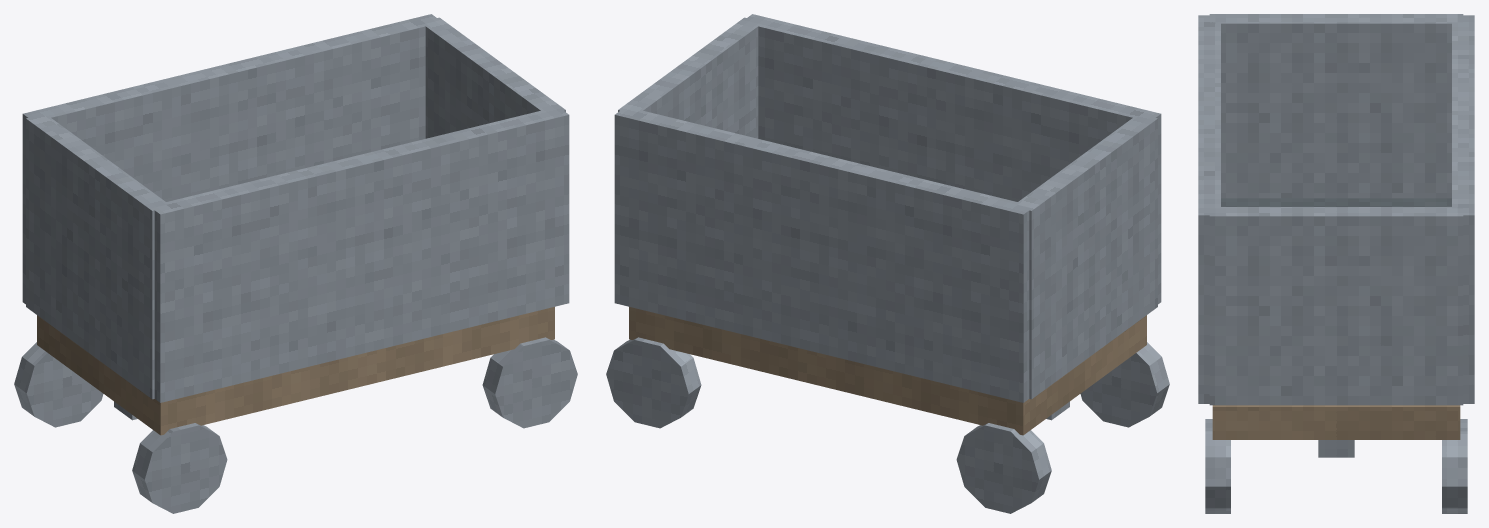
Rendered from level_blockout_refined_mine_open_ore_cart.glb.
The picture shows the model from 3 angles, left to right: view 1: azimuth 30°, elevation 25°; view 2: azimuth 150°, elevation 25°; view 3: azimuth 270°, elevation 25°; orthographic projection.
Visible parts, largest first — view 1: level_blockout_refined_mine_open_ore_cart; view 2: level_blockout_refined_mine_open_ore_cart; view 3: level_blockout_refined_mine_open_ore_cart.
Boxes of the visible parts, left/top/right/bottom form: level_blockout_refined_mine_open_ore_cart: left=14, top=14, right=577, bottom=513; level_blockout_refined_mine_open_ore_cart: left=606, top=14, right=1169, bottom=513; level_blockout_refined_mine_open_ore_cart: left=1198, top=14, right=1474, bottom=513.
Bounding box in the file's own units: 1.78 × 1.2 × 0.98.
Materials: 3 (3 with a texture image).
